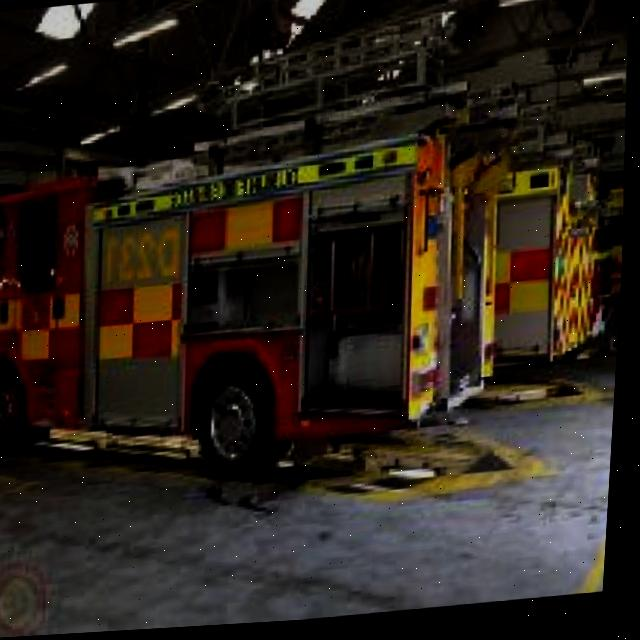emergency: (0, 106, 536, 503), (212, 137, 624, 417)
